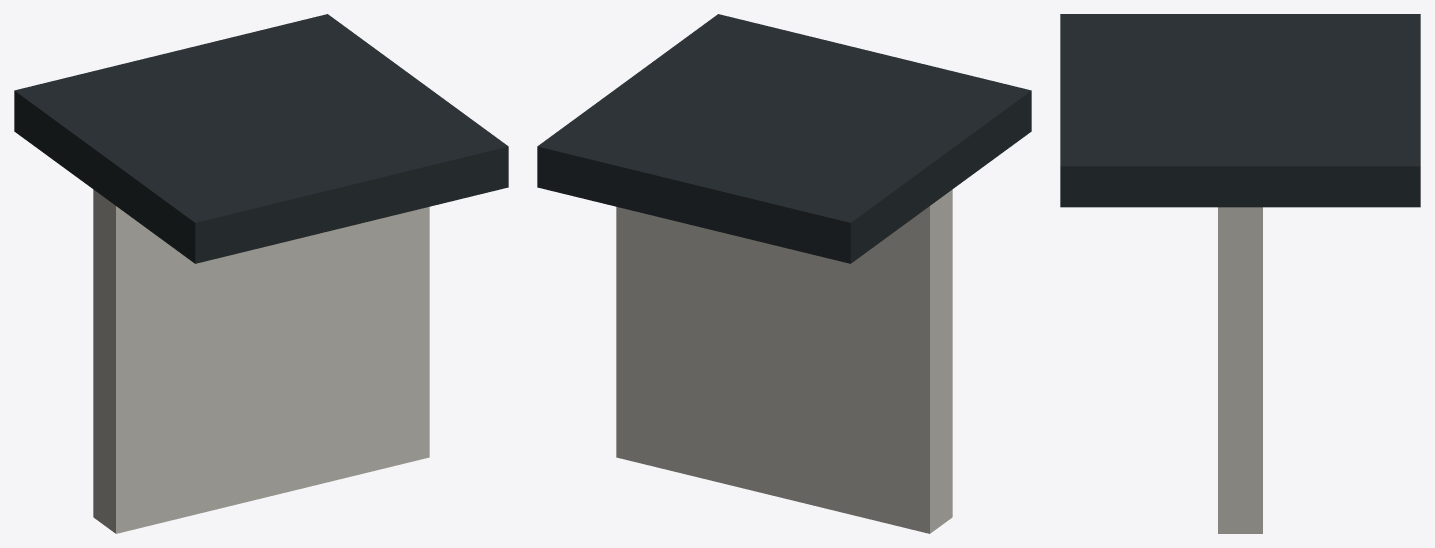
The model's file is bar1.fbx.
The picture shows the model from 3 angles, left to right: view 1: azimuth 30°, elevation 25°; view 2: azimuth 150°, elevation 25°; view 3: azimuth 270°, elevation 25°; orthographic projection.
Visible parts, largest first — view 1: Cube; view 2: Cube; view 3: Cube.
Part boxes in pixels (x1,y1,x2,y2): Cube: (14, 14, 508, 533); Cube: (537, 14, 1031, 533); Cube: (1060, 14, 1420, 533).
Bounding box in the file's own units: 4 × 4.5 × 4.
